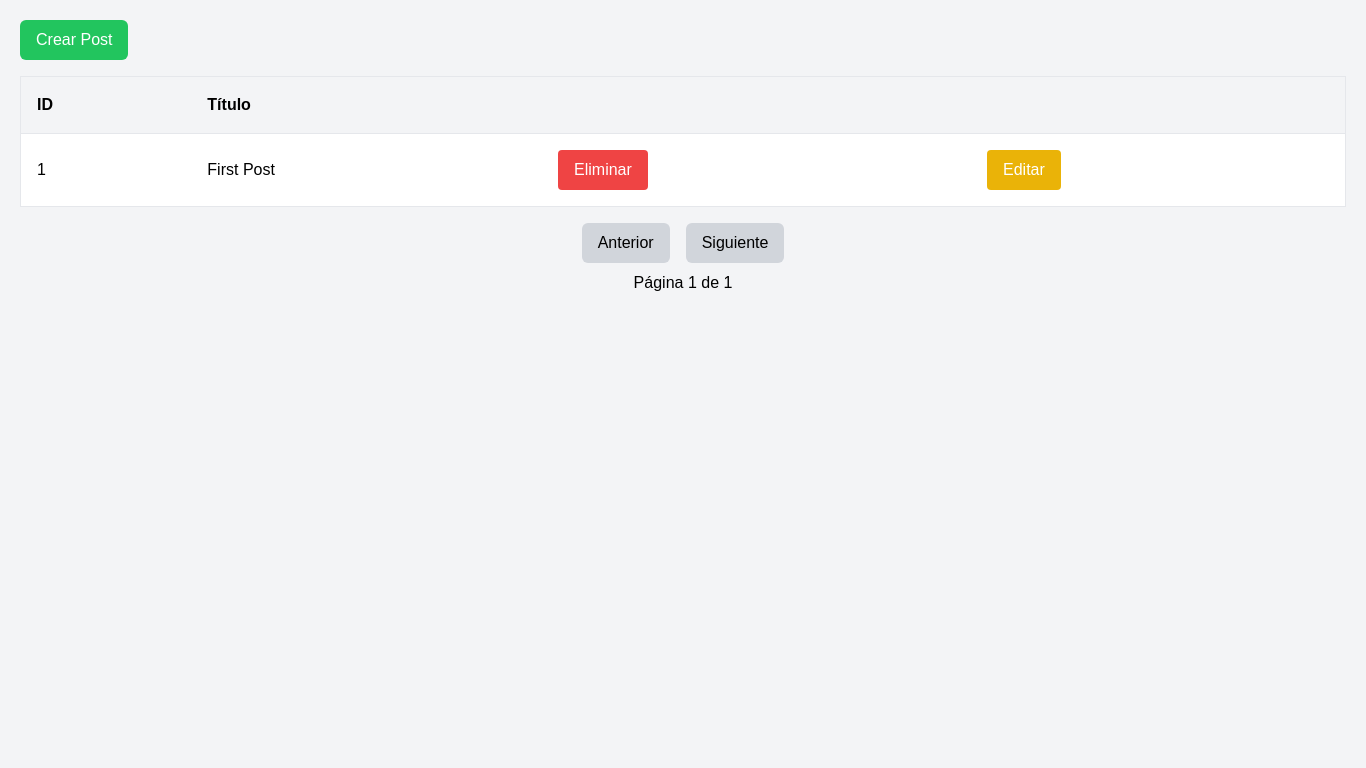
Scenario: PostList Component › displays the edit form when editing a post
Expected: the text "First Post" is shown, [191, 134, 542, 206]
Click en el botón "Editar"
Click the button "Editar": (1024, 170) [987, 150, 1061, 190]
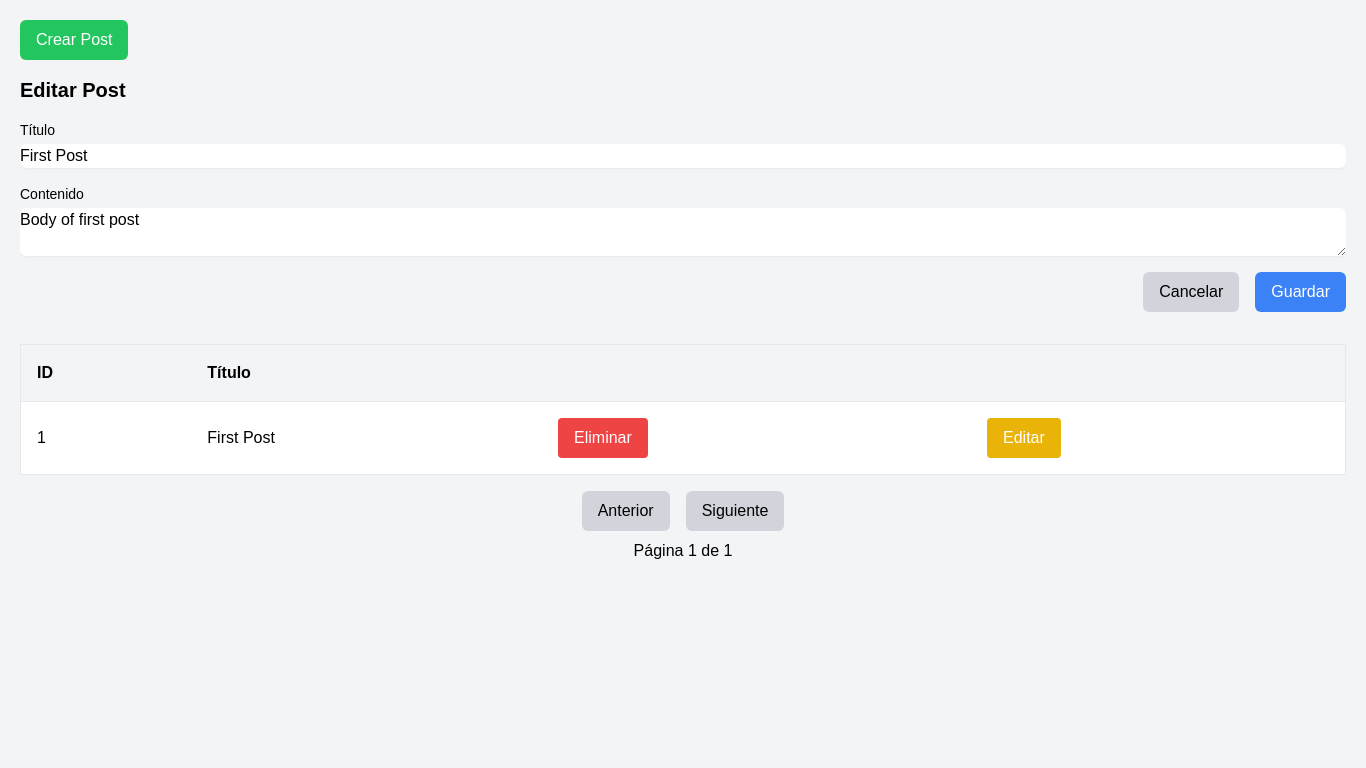
Expected: the heading "Editar Post" is shown, [20, 79, 126, 101]
Expected: the field labelled "Título" holds "First Post", [20, 144, 1346, 168]
